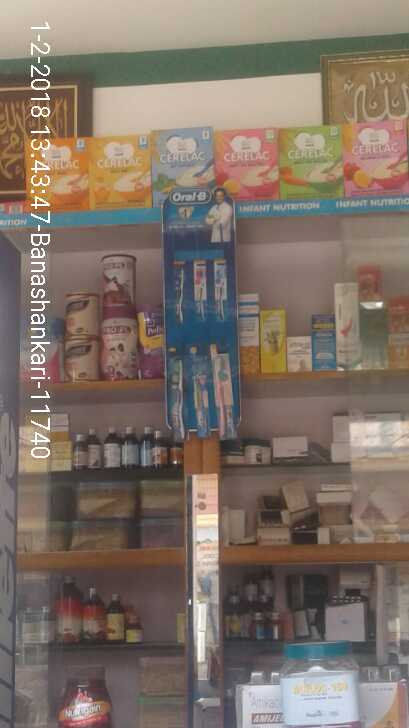oralb: (163, 352, 241, 440)
